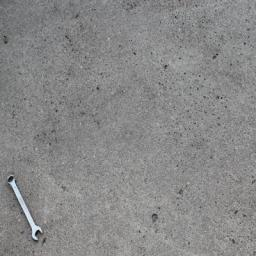FOD: (8, 176, 47, 243)
